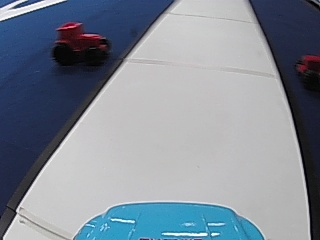tractor: (51, 18, 109, 67), (293, 53, 320, 91)
